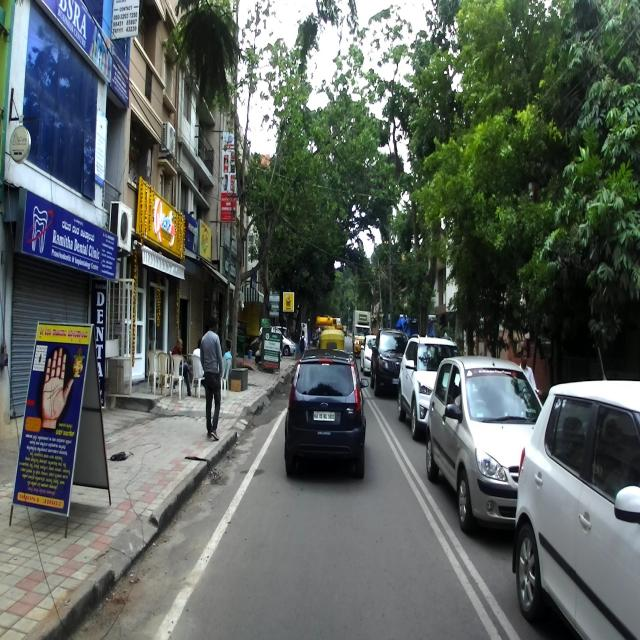car: (425, 355, 543, 532), (284, 347, 368, 482), (396, 331, 462, 439)
